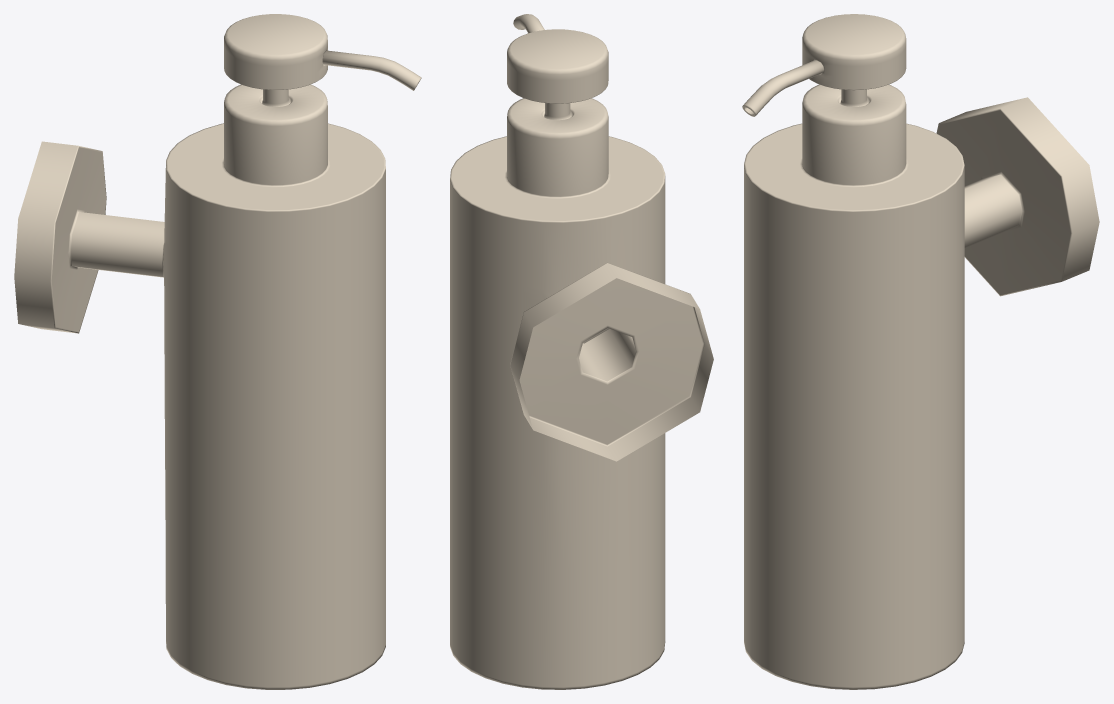
File: soap-dispenser-scene-oat.glb
3 views of the same model, side by side, from view 1: azimuth 30°, elevation 25°; view 2: azimuth 150°, elevation 25°; view 3: azimuth 270°, elevation 25° (orthographic). The views are drawn at different scales.
Parts seen in each view (by area): view 1: Soap dispensers; view 2: Soap dispensers; view 3: Soap dispensers.
Part boxes in pixels (x1,y1,x2,y2): Soap dispensers: [14, 14, 421, 689]; Soap dispensers: [450, 14, 713, 689]; Soap dispensers: [742, 14, 1099, 689].
Size of the model in its own units: 0.101 by 0.192 by 0.1021.
